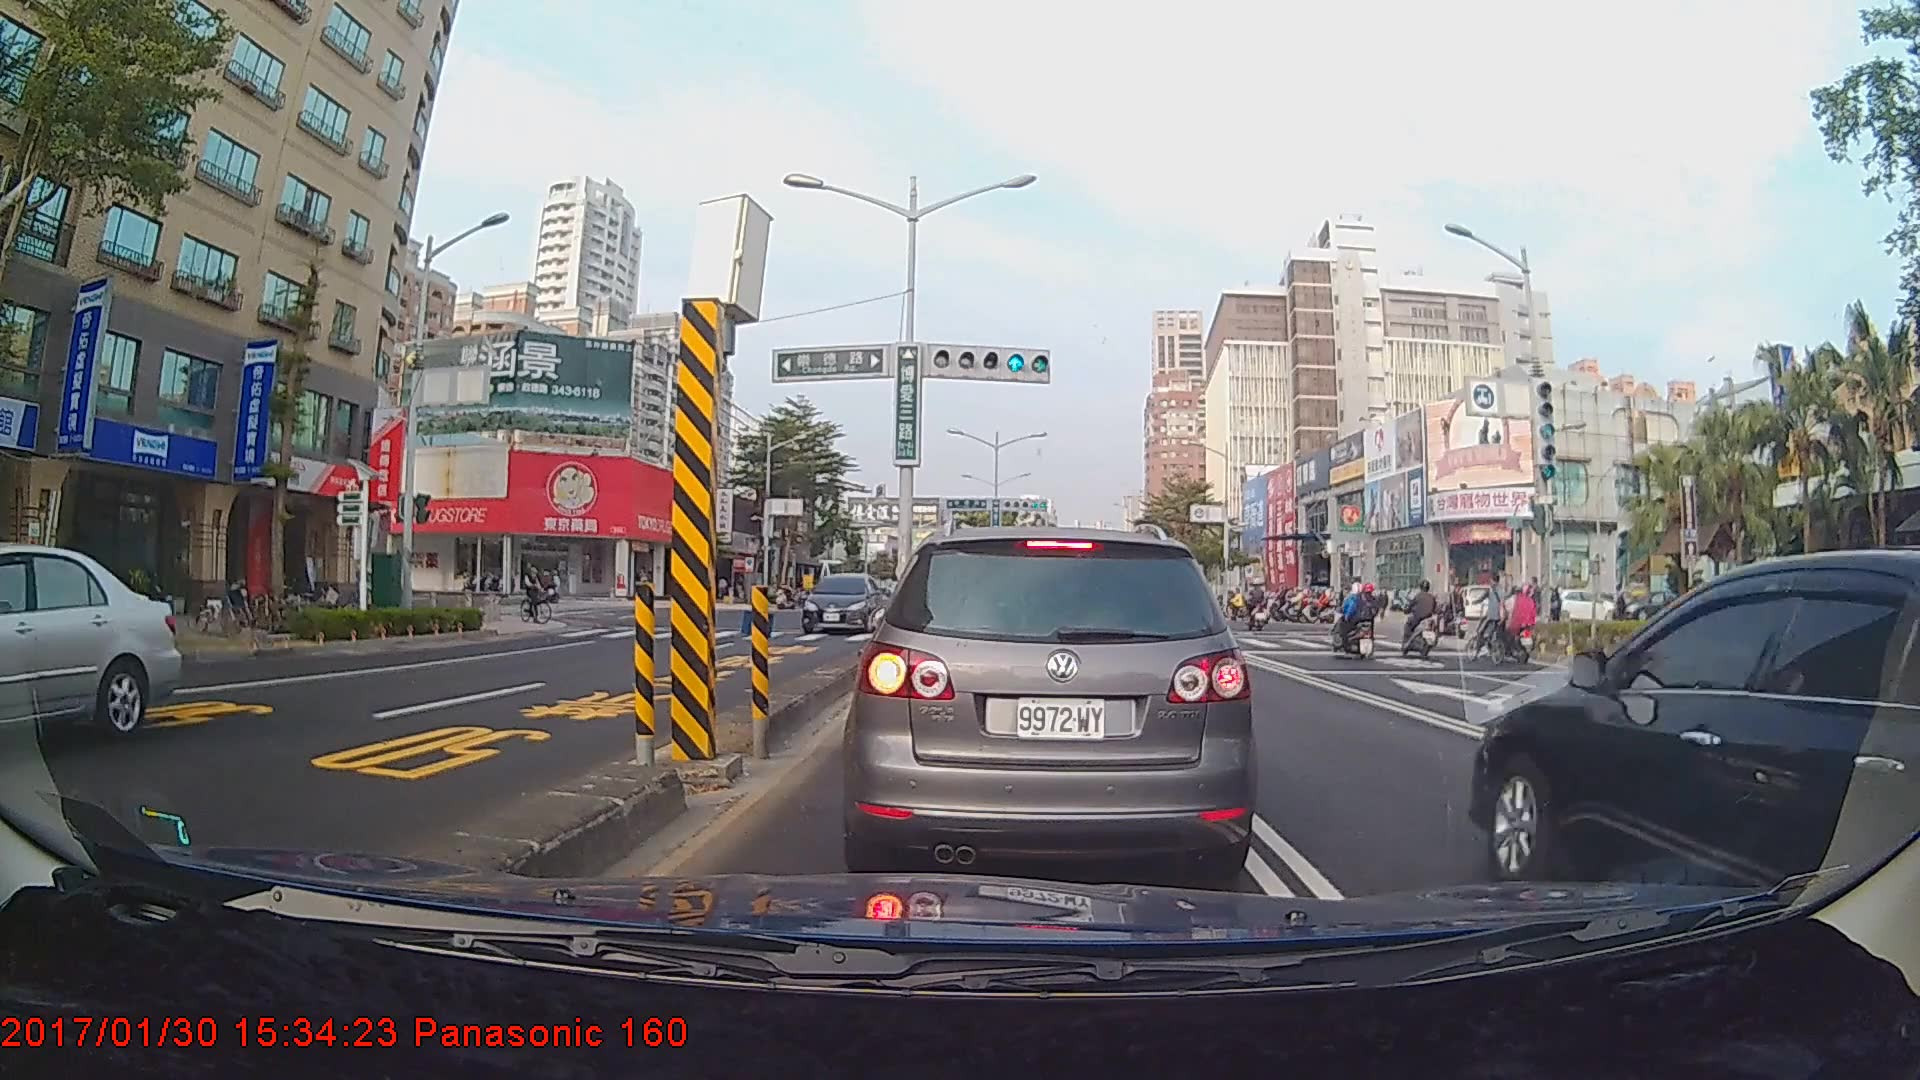pedestrian: (1609, 581, 1630, 640)
rider: (1466, 570, 1520, 666), (1334, 580, 1388, 664), (1398, 580, 1450, 660), (518, 559, 561, 629), (1240, 576, 1275, 636), (521, 567, 563, 605)
vehicle: (1469, 546, 1917, 883), (852, 523, 1251, 879), (0, 540, 179, 774), (800, 570, 886, 633)
